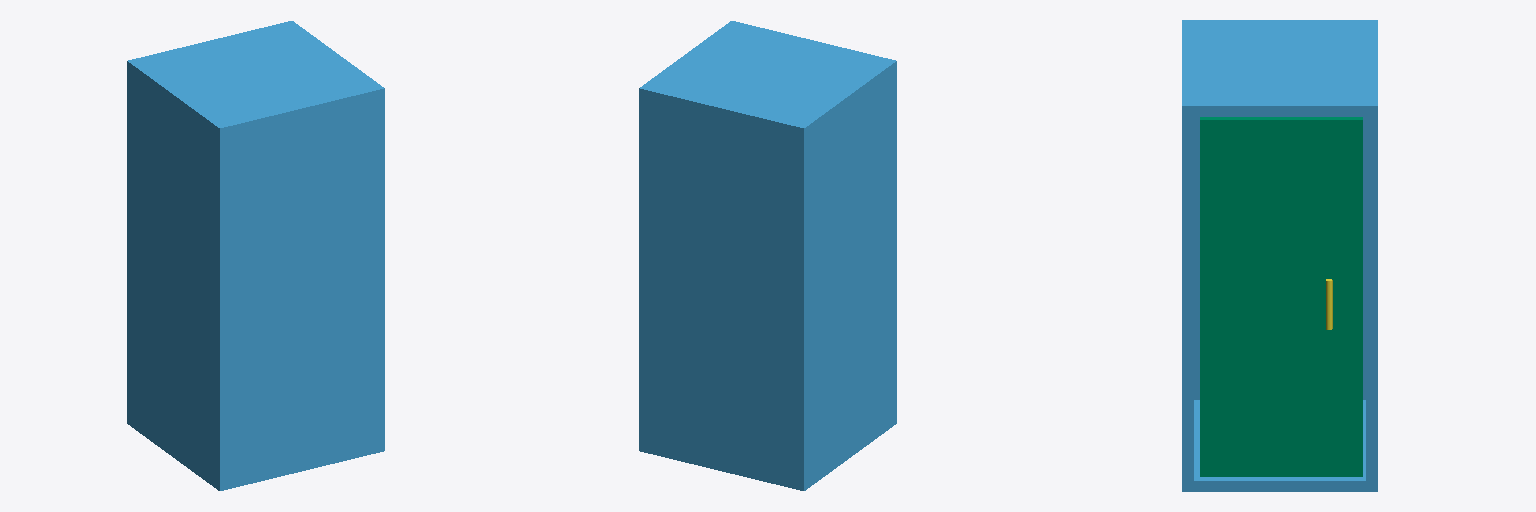
robot.urdf — my_cabinet:
<?xml version="1.0" ?>
<robot name="my_cabinet">
	<link name="world"/>
	<joint name="virtual_joint" type="fixed">
		<parent link="world"/>
		<child link="base_cabinet_link"/>
		<origin xyz="0.0 0.0 0.0" rpy="0.0 0.0 0.0"/>
	</joint>
	<link name="base_cabinet_link">
		<visual>
			<origin xyz="0.0 -0.0025 -0.30581491185385723" rpy="0.0 0.0 0.0"/>
			<geometry>
				<box size="0.3 0.29147055537739813 0.018"/>
			</geometry>
		</visual>
		<collision name="base_cabinet_link_collision_0">
			<origin xyz="0.0 -0.0025 -0.30581491185385723" rpy="0.0 0.0 0.0"/>
			<geometry>
				<box size="0.3 0.29147055537739813 0.018"/>
			</geometry>
		</collision>
		<visual>
			<origin xyz="0.0 0.13423527768869908 0.0" rpy="0.0 0.0 0.0"/>
			<geometry>
				<box size="0.3 0.018 0.6296298237077145"/>
			</geometry>
		</visual>
		<collision name="base_cabinet_link_collision_1">
			<origin xyz="0.0 0.13423527768869908 0.0" rpy="0.0 0.0 0.0"/>
			<geometry>
				<box size="0.3 0.018 0.6296298237077145"/>
			</geometry>
		</collision>
		<visual>
			<origin xyz="0.0 -0.1392352776886991 0.0" rpy="0.0 0.0 0.0"/>
			<geometry>
				<box size="0.3 0.018 0.6296298237077145"/>
			</geometry>
		</visual>
		<collision name="base_cabinet_link_collision_2">
			<origin xyz="0.0 -0.1392352776886991 0.0" rpy="0.0 0.0 0.0"/>
			<geometry>
				<box size="0.3 0.018 0.6296298237077145"/>
			</geometry>
		</collision>
		<visual>
			<origin xyz="0.0 -0.0025 0.30581491185385723" rpy="0.0 0.0 0.0"/>
			<geometry>
				<box size="0.3 0.29147055537739813 0.018"/>
			</geometry>
		</visual>
		<collision name="base_cabinet_link_collision_3">
			<origin xyz="0.0 -0.0025 0.30581491185385723" rpy="0.0 0.0 0.0"/>
			<geometry>
				<box size="0.3 0.29147055537739813 0.018"/>
			</geometry>
		</collision>
		<visual>
			<origin xyz="-0.141 -0.0025 0.0" rpy="0.0 0.0 0.0"/>
			<geometry>
				<box size="0.018 0.29147055537739813 0.6296298237077145"/>
			</geometry>
		</visual>
		<collision name="base_cabinet_link_collision_4">
			<origin xyz="-0.141 -0.0025 0.0" rpy="0.0 0.0 0.0"/>
			<geometry>
				<box size="0.018 0.29147055537739813 0.6296298237077145"/>
			</geometry>
		</collision>
		<inertial>
			<mass value="0.200000"/>
			<inertia ixx="0.008023" ixy="0.0" ixz="0.0" iyy="0.008107" iyz="0.0" izz="0.002916"/>
		</inertial>
	</link>
	<link name="door_link">
		<visual>
			<origin xyz="0.0 -0.12023527768869907 0.0"/>
			<geometry>
				<box size="0.018 0.24047055537739814 0.5836298237077144"/>
			</geometry>
		</visual>
		<collision name="door_link_collision">
			<origin xyz="0.0 -0.12023527768869907 0.0"/>
			<geometry>
				<box size="0.018 0.24047055537739814 0.5836298237077144"/>
			</geometry>
		</collision>
		<inertial>
			<mass value="0.200000"/>
			<inertia ixx="0.006641" ixy="0.0" ixz="0.0" iyy="0.005682" iyz="0.0" izz="0.000969"/>
		</inertial>
	</link>
	<joint name="door_joint" type="revolute">
		<origin xyz="0.141 -0.12023527768869907 0.0" rpy="0.000000 -0.000000 3.141593"/>
		<axis xyz="0 0 1"/>
		<parent link="base_cabinet_link"/>
		<child link="door_link"/>
		<limit effort="50" lower="-1.658062789394613" upper="0" velocity="10"/>
		<dynamics friction="3.5" damping="3.5"/>
	</joint>
	<link name="handle_link">
		<visual>
			<origin xyz="0.0 0.0 0.0" rpy="0.0 0.0 0.0"/>
			<geometry>
				<cylinder length="0.08" radius="0.005"/>
			</geometry>
		</visual>
		<collision name="handle_link_collision_0">
			<origin xyz="0.0 0.0 0.0" rpy="0.0 0.0 0.0"/>
			<geometry>
				<cylinder length="0.08" radius="0.005"/>
			</geometry>
		</collision>
		<visual>
			<origin xyz="-0.01 0.0 0.02" rpy="0.0 1.5707963267948966 0.0"/>
			<geometry>
				<cylinder length="0.02" radius="0.003"/>
			</geometry>
		</visual>
		<collision name="handle_link_collision_1">
			<origin xyz="-0.01 0.0 0.02" rpy="0.0 1.5707963267948966 0.0"/>
			<geometry>
				<cylinder length="0.01" radius="0.003"/>
			</geometry>
		</collision>
		<visual>
			<origin xyz="-0.01 0.0 -0.02" rpy="0.0 1.5707963267948966 0.0"/>
			<geometry>
				<cylinder length="0.02" radius="0.003"/>
			</geometry>
		</visual>
		<collision name="handle_link_collision_2">
			<origin xyz="-0.01 0.0 -0.02" rpy="0.0 1.5707963267948966 0.0"/>
			<geometry>
				<cylinder length="0.02" radius="0.003"/>
			</geometry>
		</collision>
		<inertial>
			<mass value="0.050000"/>
			<inertia ixx="0.000027" ixy="0.0" ixz="0.0" iyy="0.000029" iyz="0.0" izz="0.000003"/>
		</inertial>
	</link>
	<joint name="handle_joint" type="fixed">
		<origin xyz="-0.028999999999999998 -0.19047055537739815 0.0" rpy="0.000000 -0.000000 3.141593"/>
		<parent link="door_link"/>
		<child link="handle_link"/>
	</joint>
	<gazebo reference="base_cabinet_link">
		<sensor name="main_sensor" type="contact">
			<selfCollide>true</selfCollide>
			<alwaysOn>true</alwaysOn>
			<updateRate>5.0</updateRate>
			<material>Gazebo/Red</material>
			<contact>
				<collision>base_cabinet_link_collision_0_collision</collision>
				<collision>base_cabinet_link_collision_1_collision</collision>
				<collision>base_cabinet_link_collision_2_collision</collision>
				<collision>base_cabinet_link_collision_3_collision</collision>
				<collision>base_cabinet_link_collision_4_collision</collision>
			</contact>
			<plugin name="gazebo_ros_bumper_controller" filename="libgazebo_ros_bumper.so">
				<bumperTopicName>/contact</bumperTopicName>
				<frameName>world</frameName>
			</plugin>
		</sensor>
	</gazebo>
	<gazebo reference="door_link">
		<sensor name="main_sensor" type="contact">
			<selfCollide>true</selfCollide>
			<alwaysOn>true</alwaysOn>
			<updateRate>5.0</updateRate>
			<material>Gazebo/Red</material>
			<contact>
				<collision>door_link_collision_collision</collision>
			</contact>
			<plugin name="gazebo_ros_bumper_controller" filename="libgazebo_ros_bumper.so">
				<bumperTopicName>/contact_door</bumperTopicName>
				<frameName>contact_door</frameName>
			</plugin>
		</sensor>
	</gazebo>
	<gazebo reference="door_link">
		<mu>3.0</mu>
		<mu2>3.0</mu2>
		<kp>10000000</kp>
		<kd>100</kd>
	</gazebo>
</robot>

--- Render facts (derived) ---
3 views of the same robot in one strip: view 1: azimuth 30°, elevation 25°; view 2: azimuth 150°, elevation 25°; view 3: azimuth 270°, elevation 25° (orthographic).
Model my_cabinet with 4 links and 3 joints (1 revolute, 2 fixed), rooted at world, posed all joints at 0.
Links seen in each view (by area): view 1: base_cabinet_link; view 2: base_cabinet_link; view 3: door_link, base_cabinet_link.
Link boxes in pixels (x1,y1,x2,y2): base_cabinet_link: (127, 21, 384, 490); base_cabinet_link: (639, 21, 896, 490); door_link: (1200, 117, 1362, 476); base_cabinet_link: (1182, 20, 1377, 491).
Size in the robot's own frame: 0.325 by 0.2915 by 0.6296 metres.
Geometry: primitives only (box / cylinder / sphere), no mesh files.
